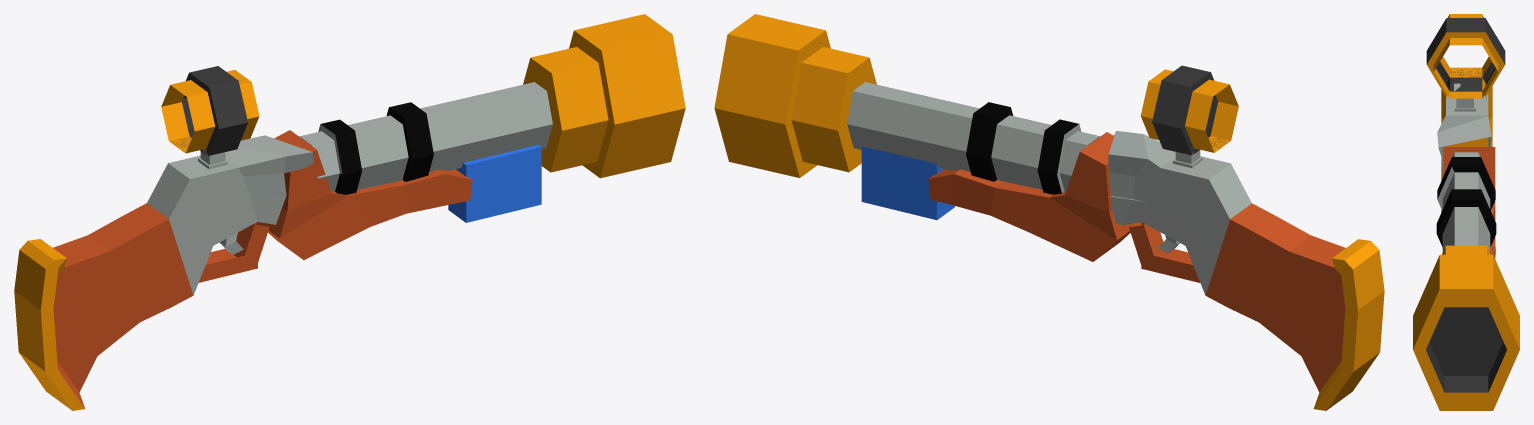
Rendered from blunder_gun_painted.glb.
3 renders of one model, left to right at view 1: azimuth 30°, elevation 25°; view 2: azimuth 150°, elevation 25°; view 3: azimuth 270°, elevation 25°, orthographic. The views are drawn at different scales.
Parts seen in each view (by area): view 1: back_guard, magzine; view 2: back_guard, magzine; view 3: back_guard.
Boxes of the visible parts, x1=… form: back_guard: x1=14, y1=14, x2=685, y2=410; magzine: x1=448, y1=144, x2=541, y2=222; back_guard: x1=714, y1=14, x2=1384, y2=410; magzine: x1=861, y1=146, x2=954, y2=220; back_guard: x1=1413, y1=14, x2=1519, y2=410.
Bounding box in the file's own units: 3.88 × 1.7 × 0.5905.
